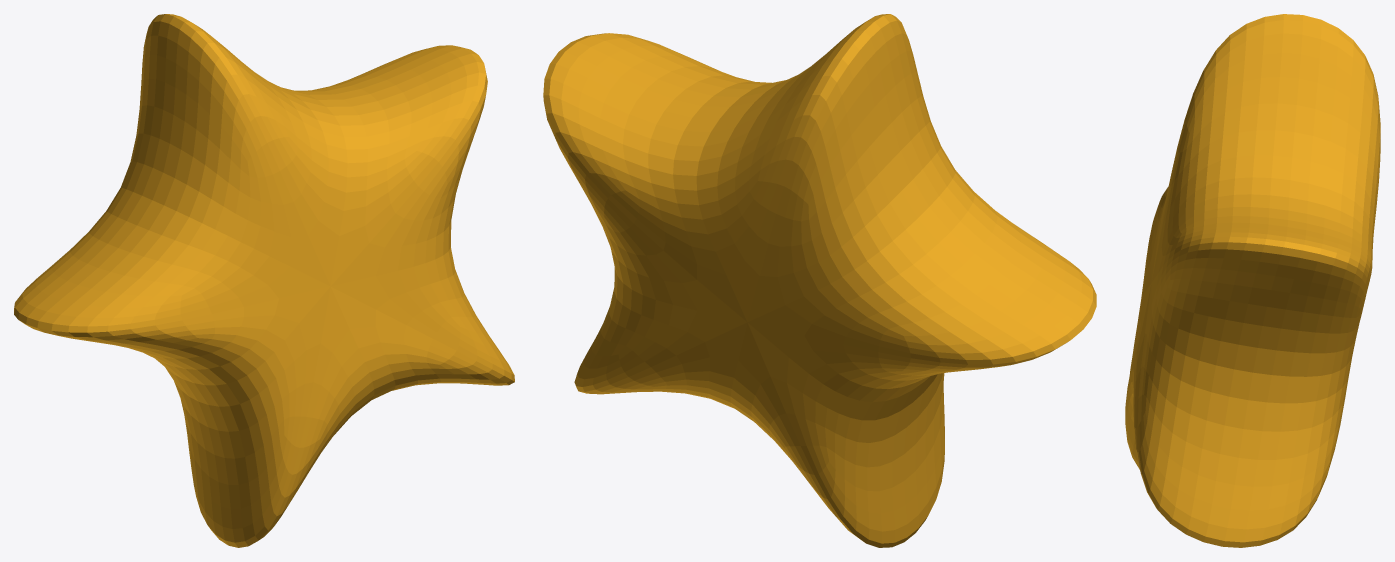
The model's file is star.fbx.
3 views of the same model, side by side, from view 1: azimuth 30°, elevation 25°; view 2: azimuth 150°, elevation 25°; view 3: azimuth 270°, elevation 25° (orthographic). The views are drawn at different scales.
Parts seen in each view (by area): view 1: Star; view 2: Star; view 3: Star.
Boxes of the visible parts, x1,y1,x2,y2 form: Star: (14, 14, 514, 547); Star: (543, 14, 1096, 547); Star: (1125, 14, 1380, 547).
Bounding box in the file's own units: 256 × 263 × 125.
